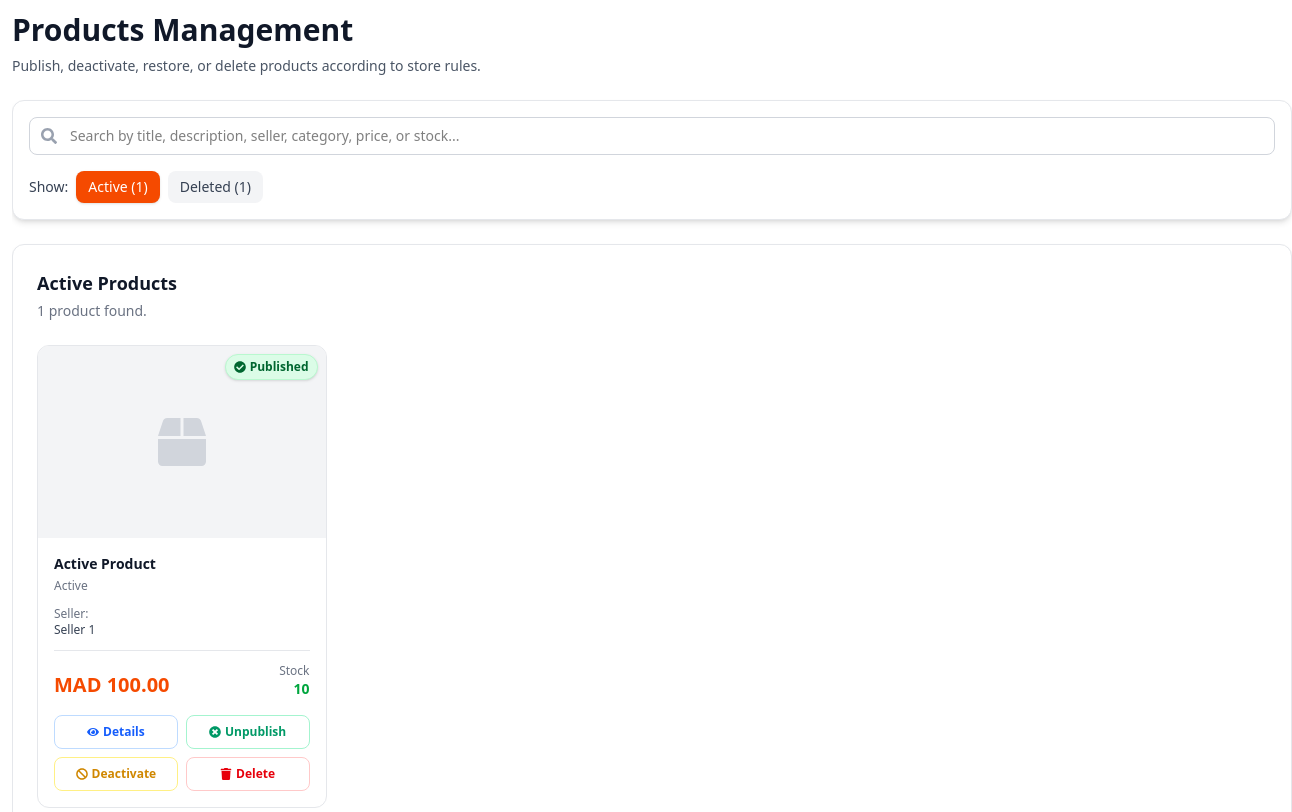
AdminProducts › toggles between active and deleted products
Check: the heading "Active Product" is shown, box [54,554,156,573]
Click the button "Deleted (1)" at {"x": 215, "y": 187}, box [168,171,263,203]
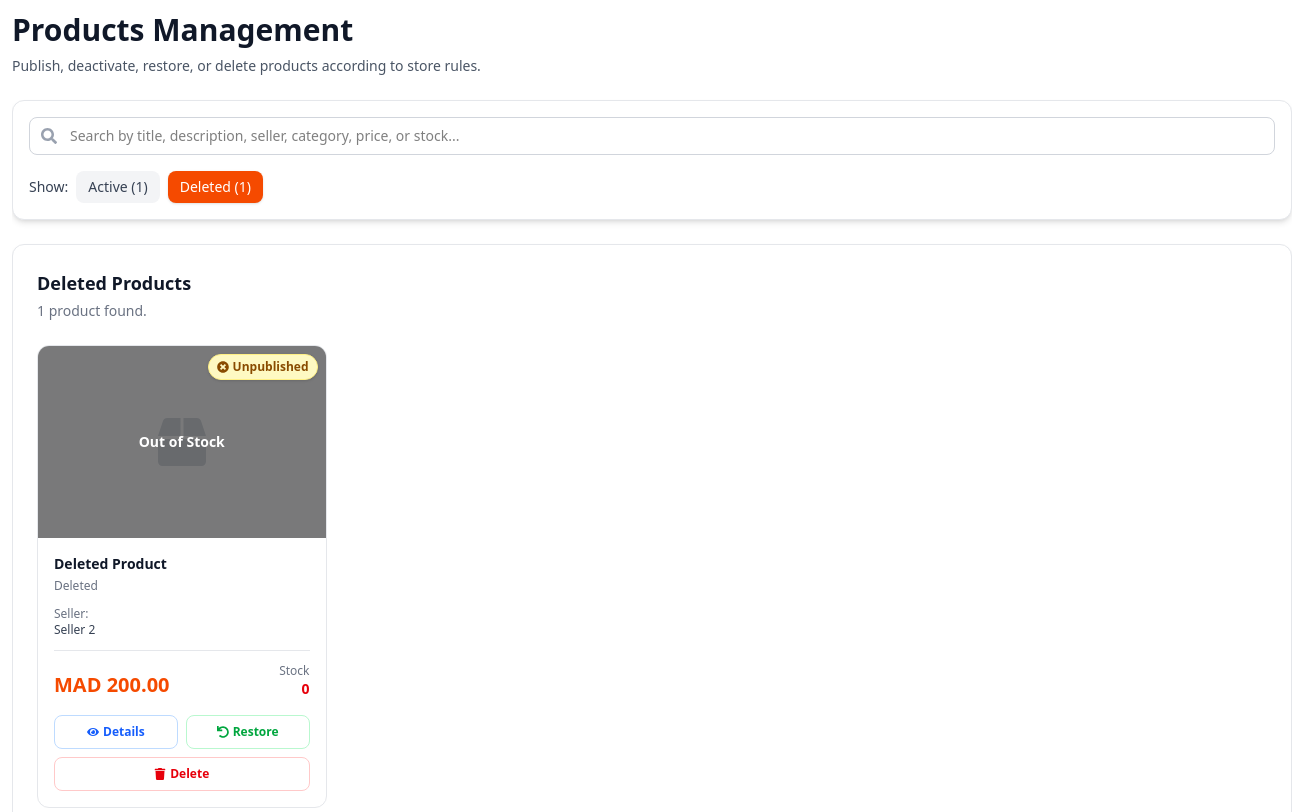
Check: the heading "Deleted Product" is shown, box [54,554,167,573]
